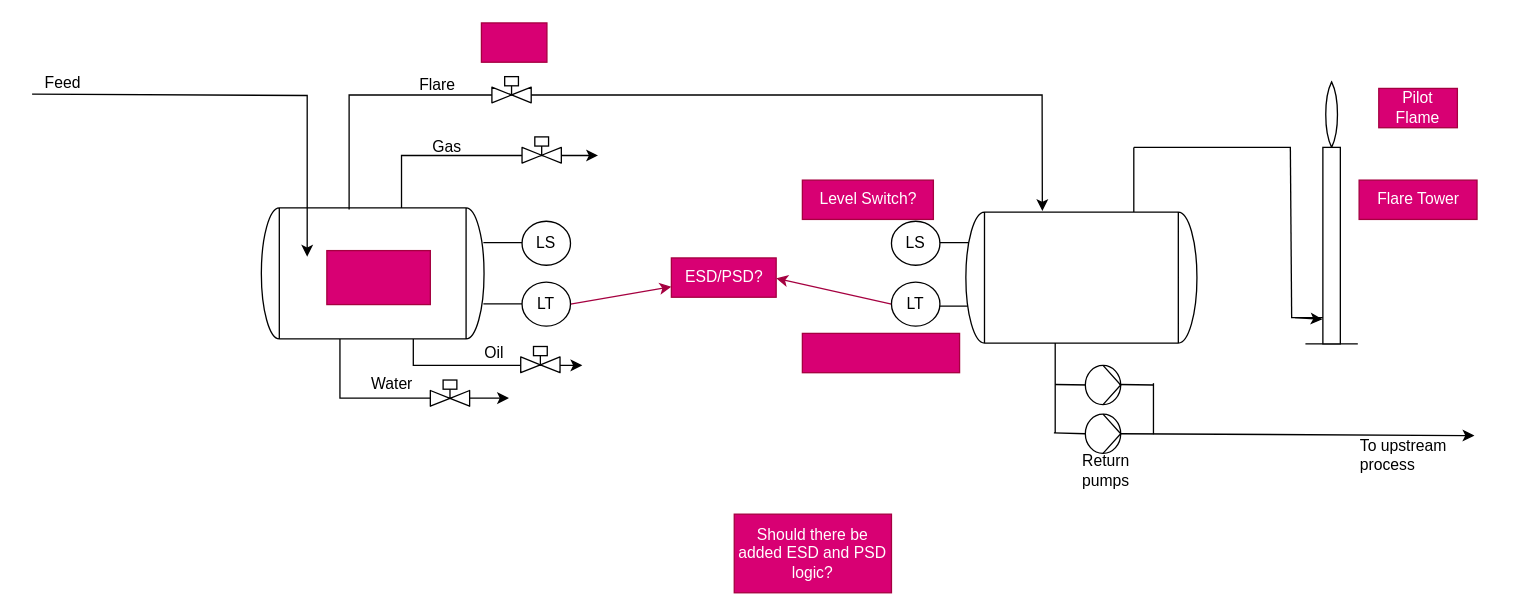
The diagram is 1517 pixels wide and 616 high, and some of its shapes have lost their labels. Here are the shapes that lost their labels. From the top down, the centre of each, then its label:
(513,42): PRV
(378,277): Separator?
(1081,277): Knock-out drum
(880,352): Level transmitter?
